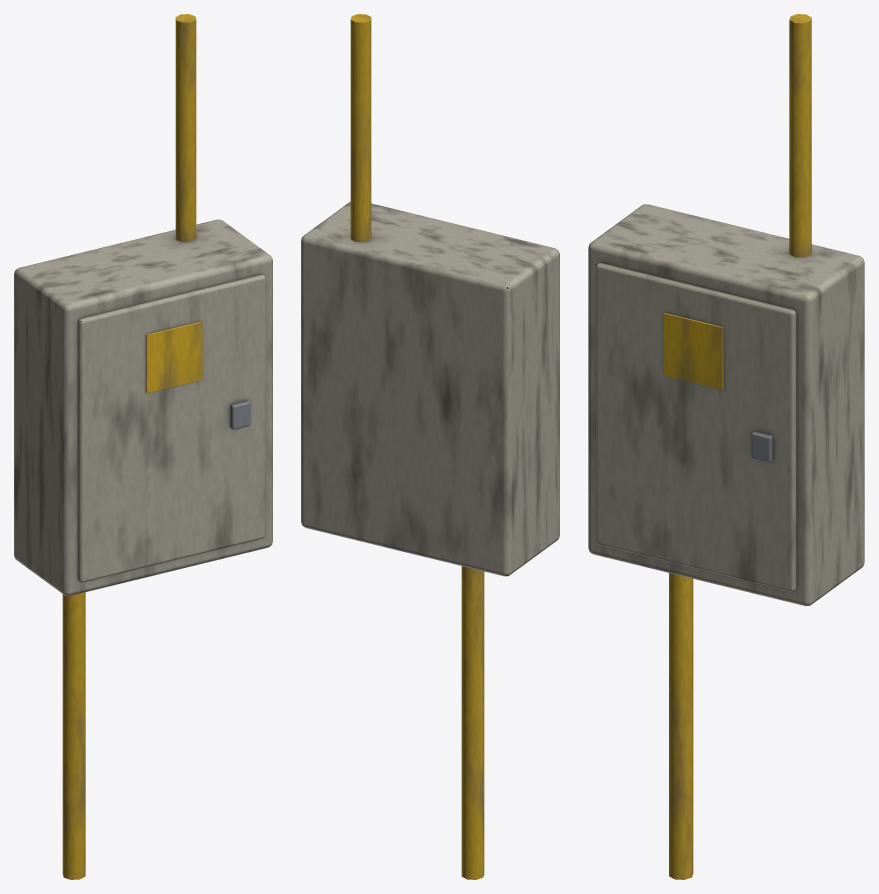
Rendered from par_gaz.glb.
3 renders of one model, left to right at view 1: azimuth 30°, elevation 25°; view 2: azimuth 150°, elevation 25°; view 3: azimuth 330°, elevation 25°, orthographic. The views are drawn at different scales.
Parts seen in each view (by area): view 1: Gaz; view 2: Gaz; view 3: Gaz.
Boxes of the visible parts, bbox=[...] form: Gaz: bbox=[14, 14, 272, 879]; Gaz: bbox=[301, 14, 559, 879]; Gaz: bbox=[588, 14, 864, 879].
Size of the model in its own units: 0.45 by 1.7 by 0.224.
Materials: 1 (1 with a texture image).
